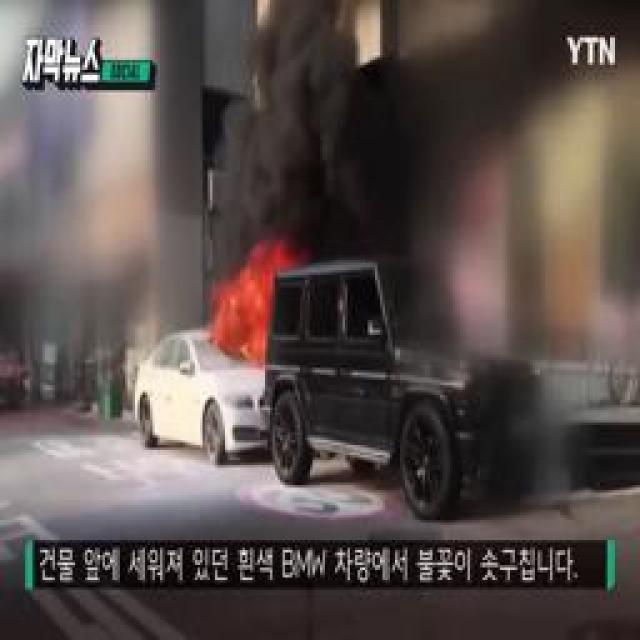Fire: (227, 244, 299, 356)
